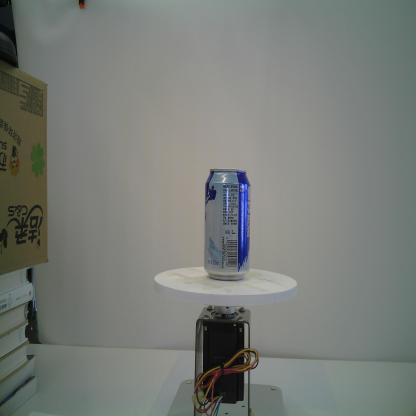Alcohol: (203, 168, 251, 281)
